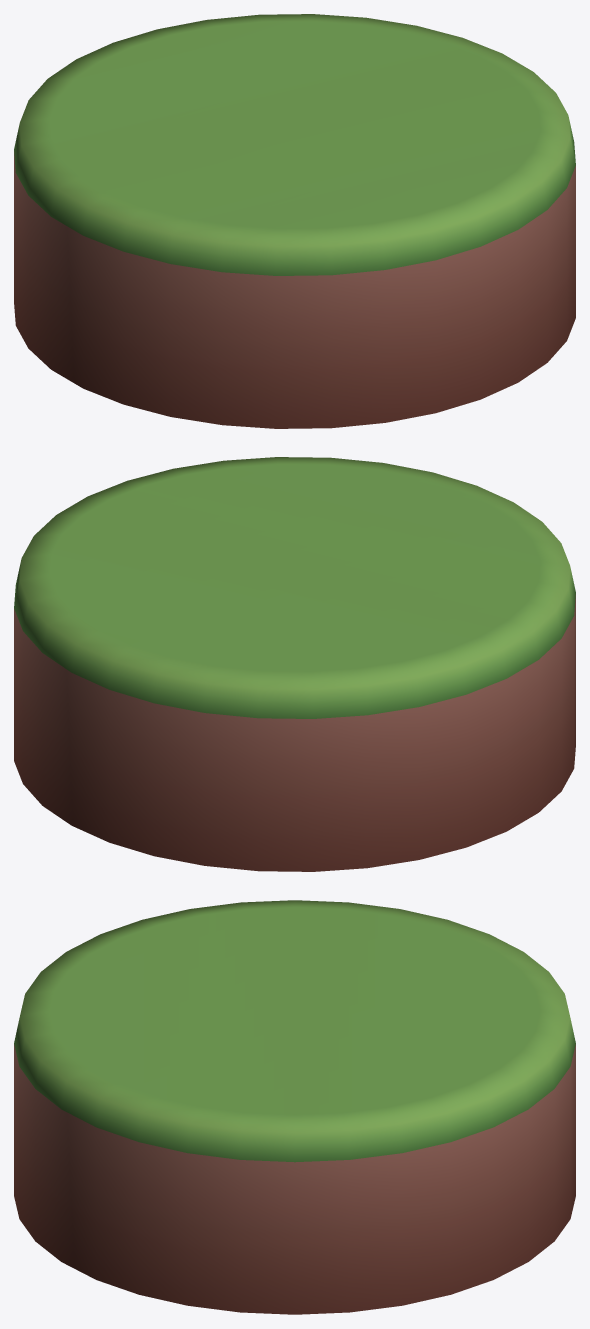
File: Forest_VCillinderSmall1.fbx
The picture shows the model from 3 angles, top to bottom: view 1: azimuth 30°, elevation 25°; view 2: azimuth 150°, elevation 25°; view 3: azimuth 270°, elevation 25°; orthographic projection.
Parts seen in each view (by area): view 1: Circle.019; view 2: Circle.019; view 3: Circle.019.
Boxes of the visible parts, left/top/right/bottom form: Circle.019: left=14, top=14, right=575, bottom=428; Circle.019: left=14, top=457, right=575, bottom=871; Circle.019: left=14, top=900, right=575, bottom=1314.
Bounding box in the file's own units: 149 × 54.18 × 149.
